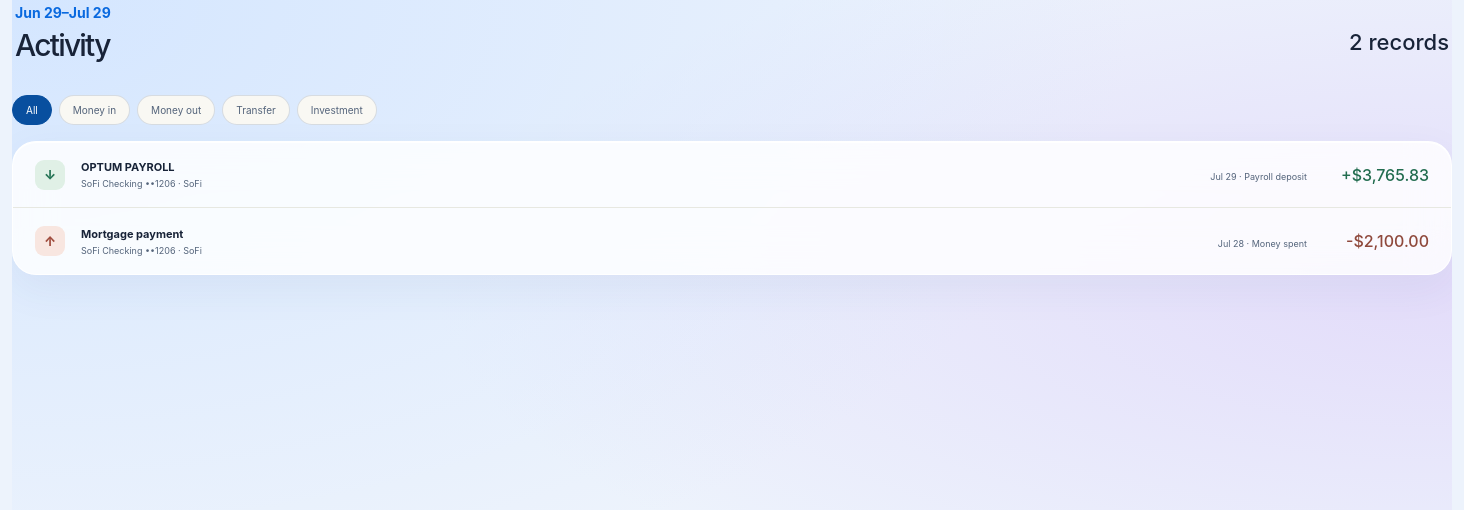
Test case: account-first views › filters activity by where money went
Check: the text "OPTUM PAYROLL" is shown, box [81,160,175,174]
Check: the text "Mortgage payment" is shown, box [81,226,183,240]
Step 1. Click the button "Money out" → point(176, 110), box [137,95,215,125]
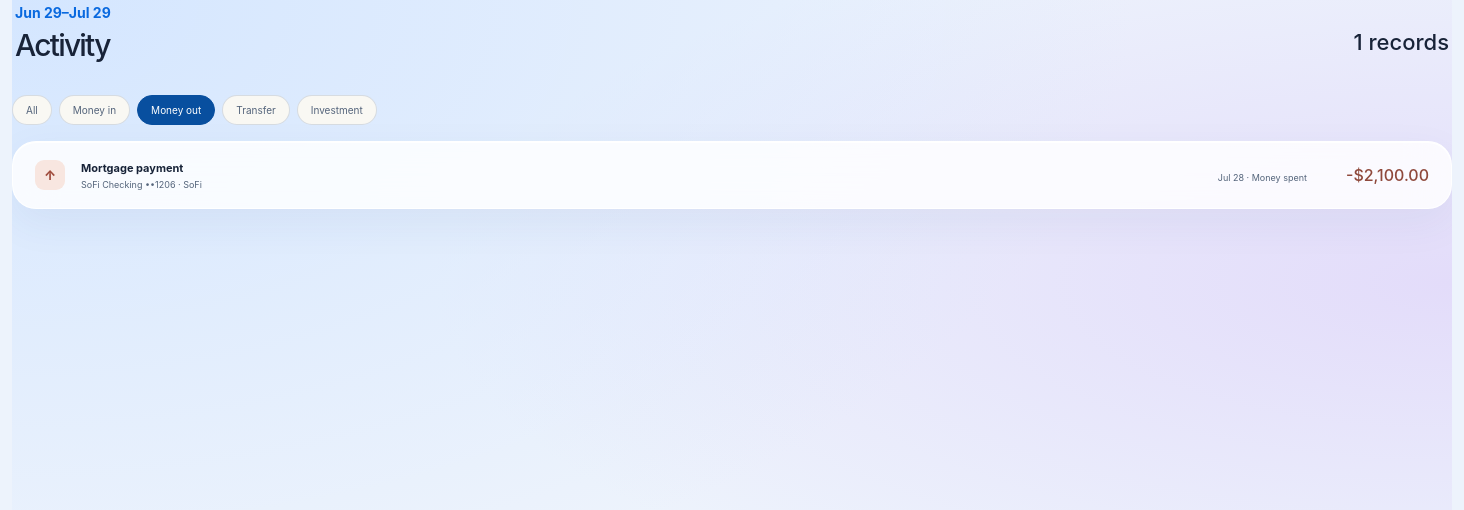
Check: the text "Mortgage payment" is shown, box [81,160,183,174]
Check: the text "OPTUM PAYROLL" is gone
